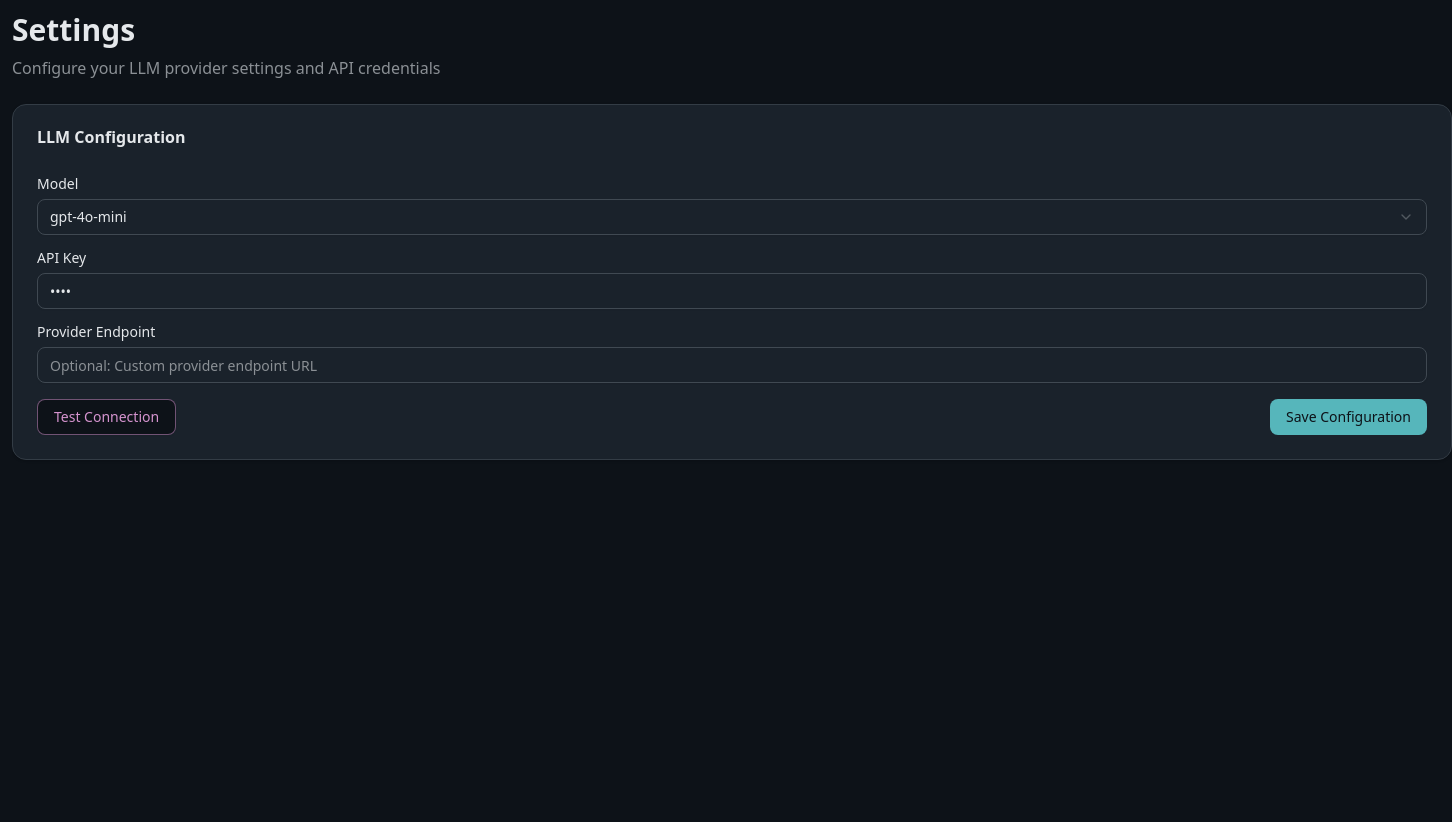
Settings Test Connection Integration Test › should test connection without saving configuration
Type "sk-test-new-api-key-12345" into the password field labelled "API Key". click: [732, 291]
box: top-left (37, 273), bottom-right (1427, 309)
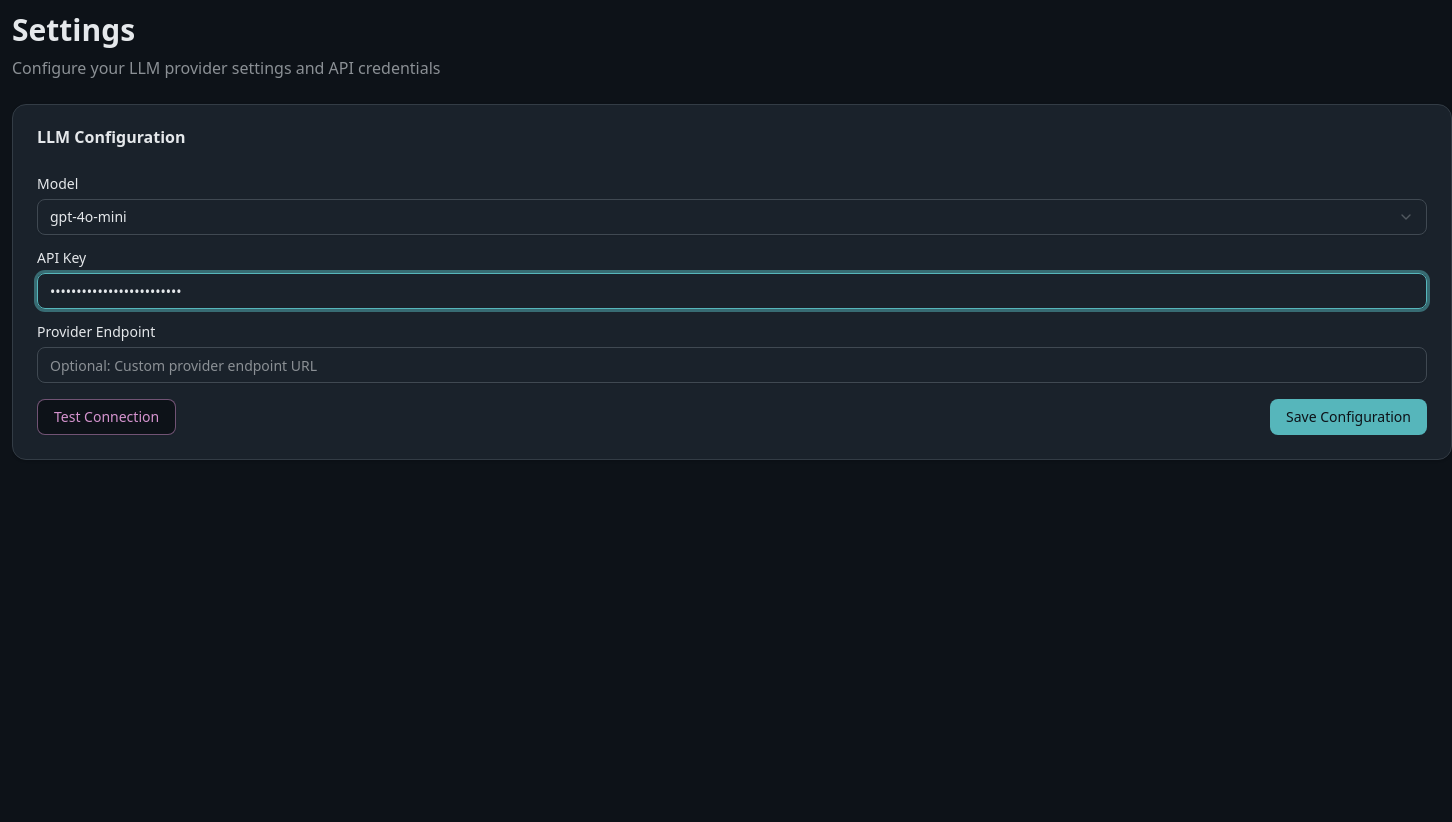
Click the button "Test Connection". click: [107, 417]
box: top-left (37, 399), bottom-right (176, 435)
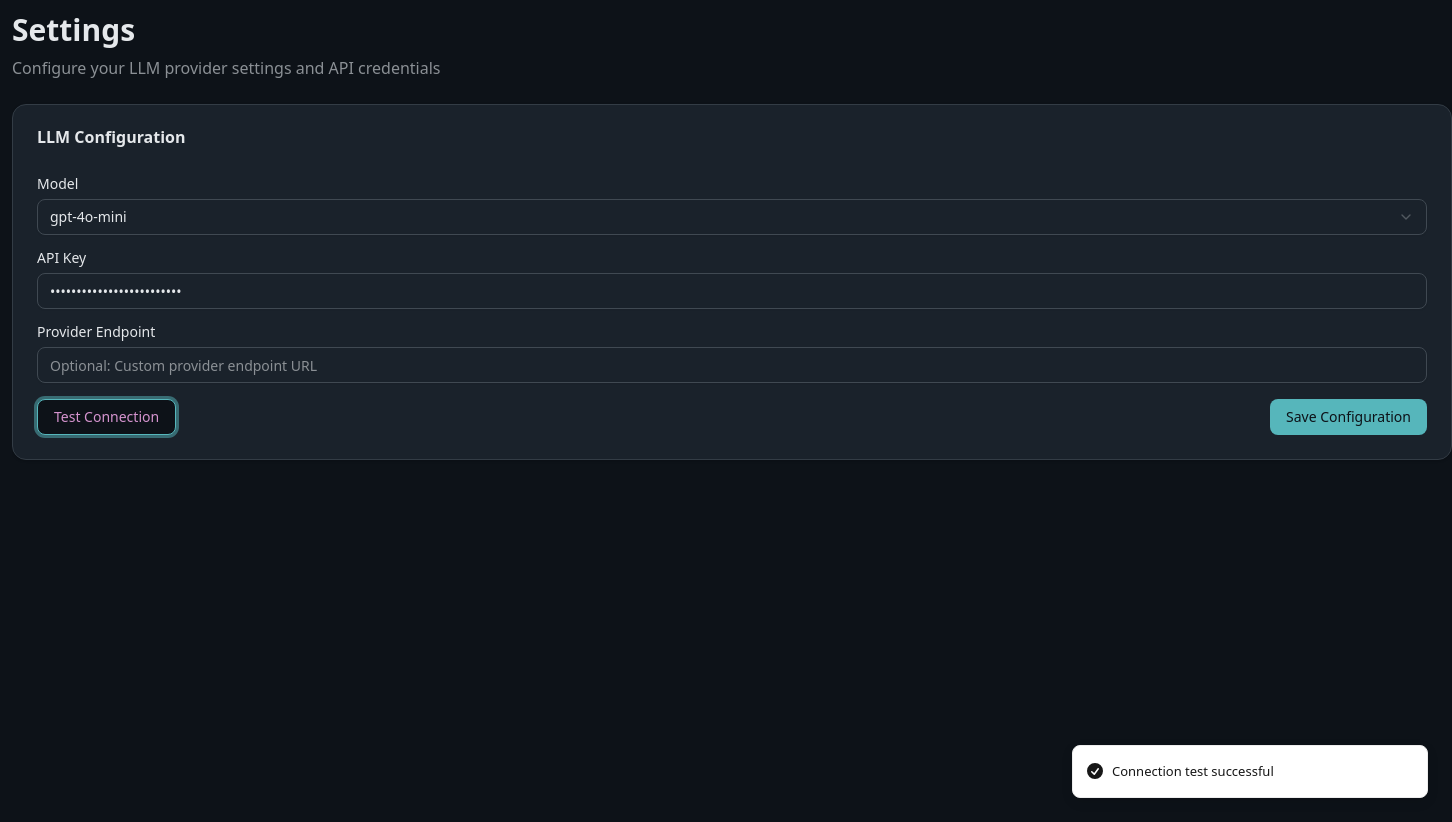
Expected: the text "Connection test successful" is shown, top-left (1112, 762), bottom-right (1274, 781)
